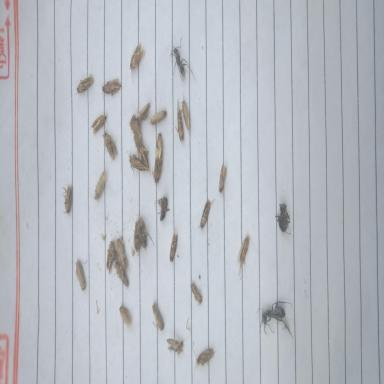pbw: (192, 342, 216, 377), (237, 233, 255, 276), (128, 42, 146, 84), (128, 148, 152, 179), (198, 198, 214, 230), (102, 130, 118, 160), (148, 104, 169, 126), (102, 78, 121, 101), (175, 99, 185, 141), (151, 301, 165, 331), (74, 257, 86, 291), (93, 171, 106, 202), (180, 90, 190, 130), (113, 263, 129, 288), (61, 183, 73, 215), (152, 152, 164, 184), (76, 74, 95, 94), (89, 113, 107, 134), (116, 237, 127, 270), (169, 225, 178, 263), (135, 102, 151, 122), (106, 239, 115, 273), (190, 281, 202, 306), (119, 304, 131, 327), (167, 338, 183, 355), (218, 164, 227, 192), (155, 132, 163, 160)
